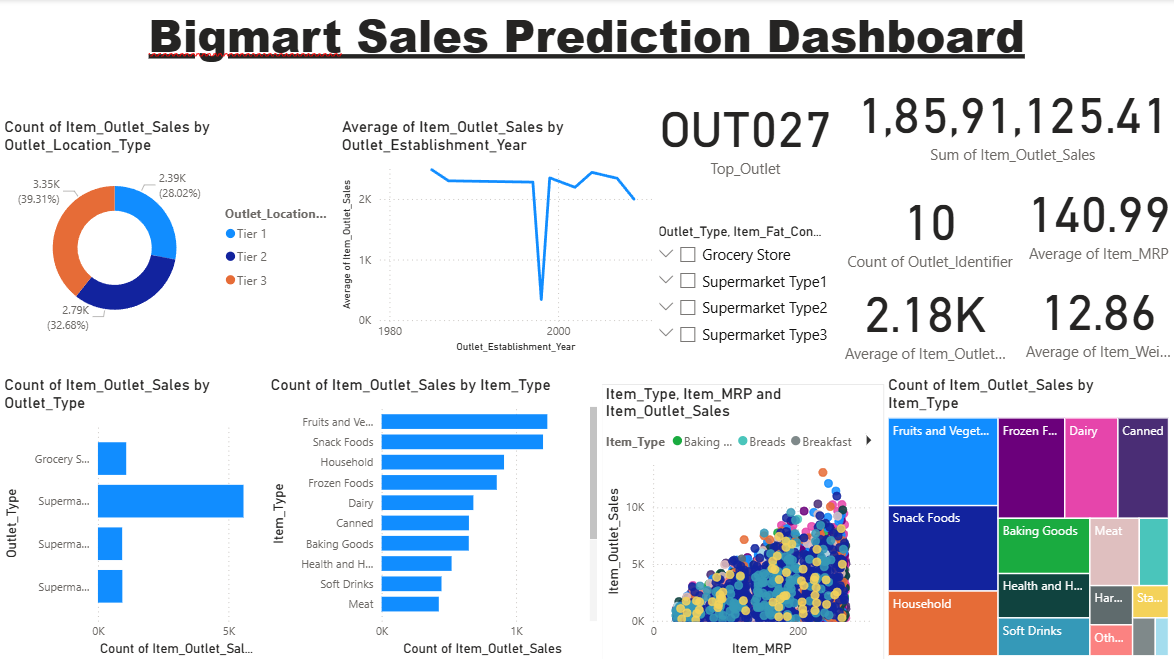

This screenshot's page, from the dashboard's own definition file:
{"tool":"powerbi","page":{"name":"Page 1","canvas":[1280,720],"ordinal":0},"visuals":[{"type":"clusteredBarChart","fields":{"Category":["Train2.Outlet_Type"],"Y":["CountNonNull(Train2.Item_Outlet_Sales)"]},"box":[0,409.5,289.2,310.6],"z":0},{"type":"treemap","fields":{"Group":["Train2.Item_Type"],"Values":["CountNonNull(Train2.Item_Outlet_Sales)"]},"box":[962.1,409.5,315.1,310.6],"z":1000},{"type":"scatterChart","fields":{"X":["Train2.Item_MRP"],"Y":["Train2.Item_Outlet_Sales"],"Series":["Train2.Item_Type"]},"box":[654.6,418.7,307.5,301.4],"z":2000},{"type":"card","fields":{"Values":["Sum(Train2.Item_Outlet_Sales)"]},"box":[925.6,74.6,354.7,112.7],"z":3000},{"type":"card","fields":{"Values":["Avg(Train2.Item_MRP)"]},"box":[1111.3,185.7,169,105],"z":4000},{"type":"slicer","fields":{"Values":["Train2.Outlet_Type","Train2.Item_Fat_Content","Train2.Outlet_Location_Type"]},"box":[703.3,239,211.6,150.7],"z":5000},{"type":"lineChart","fields":{"Category":["Train2.Outlet_Establishment_Year"],"Y":["Avg(Train2.Item_Outlet_Sales)"]},"box":[366.9,129.4,350.1,260.3],"z":6000},{"type":"card","fields":{"Values":["Avg(Train2.Item_Weight)"]},"box":[1109.8,287.7,170.5,115.7],"z":7000},{"type":"card","fields":{"Values":["Avg(Train2.Item_Outlet_Sales)"]},"box":[914.9,290.8,185.7,112.7],"z":8000},{"type":"donutChart","fields":{"Category":["Train2.Outlet_Location_Type"],"Y":["CountNonNull(Train2.Item_Outlet_Sales)"]},"box":[0,129.4,366.9,242.1],"z":9000},{"type":"barChart","fields":{"Category":["Train2.Item_Type"],"Y":["CountNonNull(Train2.Item_Outlet_Sales)"]},"box":[289.2,409.5,365.4,310.6],"z":10000},{"type":"textbox","box":[0,0,1277.3,94.4],"z":11000},{"type":"card","fields":{"Values":["Count(Train2.Outlet_Identifier)"]},"box":[914.9,185.7,196.4,121.8],"z":11001},{"type":"card","fields":{"Values":["Train2.Top_Outlet"]},"box":[709.4,94.4,205.5,105],"z":11002}]}

Visuals, with their boxes in screenshot pixels (x1, y1, x2, y2), scaled from the page's 1280x720 canvas onto the 1174x659 screenshot:
clusteredBarChart - Train2.Outlet_Type x CountNonNull(Train2.Item_Outlet_Sales): locate(0, 375, 265, 658)
treemap - Train2.Item_Type x CountNonNull(Train2.Item_Outlet_Sales): locate(882, 375, 1171, 658)
scatterChart - Train2.Item_MRP x Train2.Item_Outlet_Sales: locate(600, 383, 882, 658)
card - Sum(Train2.Item_Outlet_Sales): locate(849, 68, 1173, 171)
card - Avg(Train2.Item_MRP): locate(1019, 170, 1173, 266)
slicer - Train2.Outlet_Type x Train2.Item_Fat_Content: locate(645, 219, 839, 357)
lineChart - Train2.Outlet_Establishment_Year x Avg(Train2.Item_Outlet_Sales): locate(337, 118, 658, 357)
card - Avg(Train2.Item_Weight): locate(1018, 263, 1173, 369)
card - Avg(Train2.Item_Outlet_Sales): locate(839, 266, 1009, 369)
donutChart - Train2.Outlet_Location_Type x CountNonNull(Train2.Item_Outlet_Sales): locate(0, 118, 337, 340)
barChart - Train2.Item_Type x CountNonNull(Train2.Item_Outlet_Sales): locate(265, 375, 600, 658)
textbox: locate(0, 0, 1172, 86)
card - Count(Train2.Outlet_Identifier): locate(839, 170, 1019, 281)
card - Train2.Top_Outlet: locate(651, 86, 839, 183)
